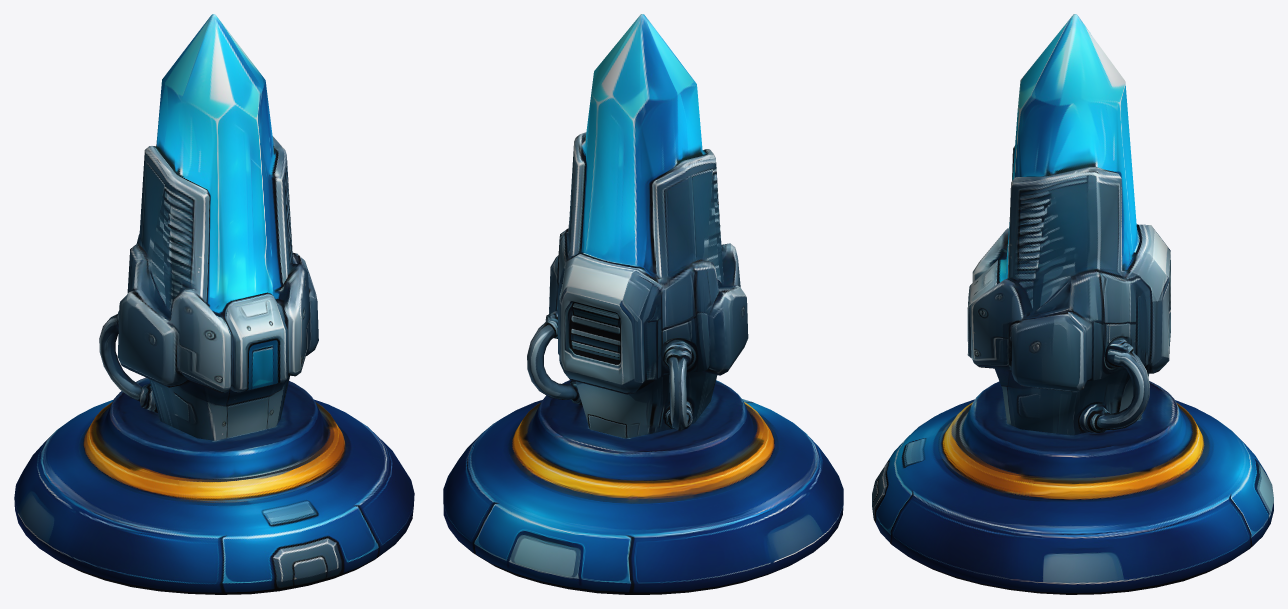
3 views of the same model, side by side, from view 1: azimuth 30°, elevation 25°; view 2: azimuth 150°, elevation 25°; view 3: azimuth 270°, elevation 25° (orthographic).
Visible parts, largest first — view 1: TurretHead, TurretBase; view 2: TurretHead, TurretBase; view 3: TurretHead, TurretBase.
Boxes of the visible parts, <box> form: TurretHead: <box>99,14,320,462</box>; TurretBase: <box>14,399,414,594</box>; TurretHead: <box>527,14,749,463</box>; TurretBase: <box>443,399,843,594</box>; TurretHead: <box>967,14,1182,463</box>; TurretBase: <box>872,399,1273,594</box>.
Bounding box in the file's own units: 171 × 171 × 235.
1 material, 1 textured.
